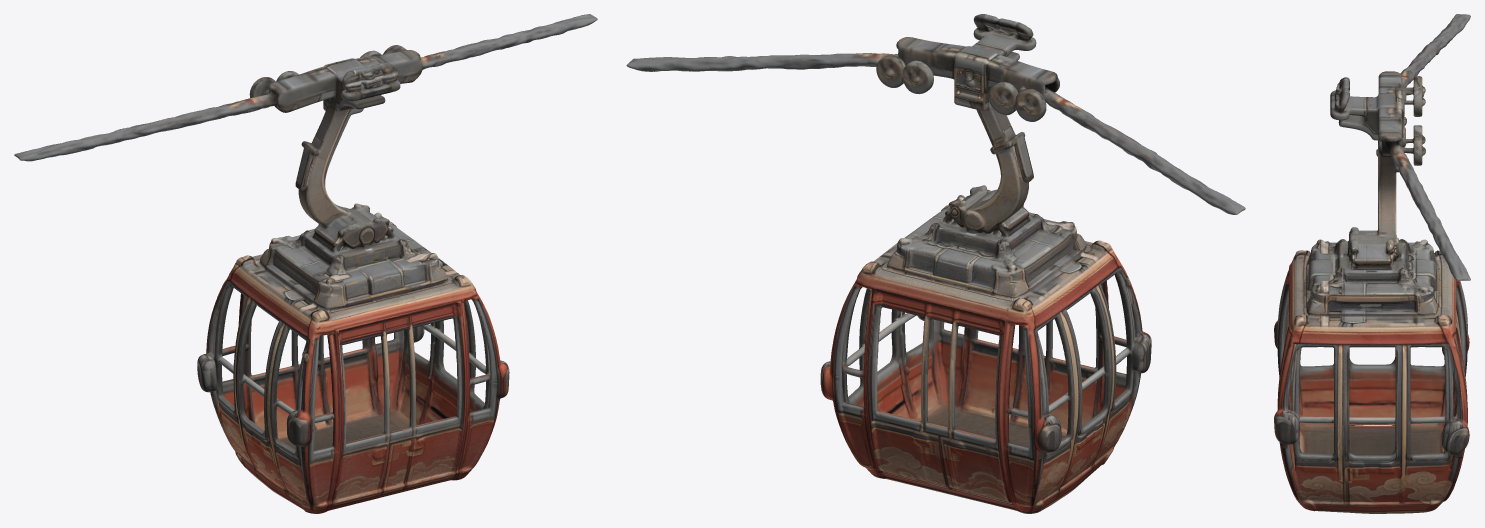
The model's file is taohuayuan-cable-car.glb.
3 views of the same model, side by side, from view 1: azimuth 30°, elevation 25°; view 2: azimuth 150°, elevation 25°; view 3: azimuth 270°, elevation 25° (orthographic). The views are drawn at different scales.
Visible parts, largest first — view 1: tripo_node_1e4098a1-4ec9-4b5f-b6f4-77ef8450d94f; view 2: tripo_node_1e4098a1-4ec9-4b5f-b6f4-77ef8450d94f; view 3: tripo_node_1e4098a1-4ec9-4b5f-b6f4-77ef8450d94f.
Part boxes in pixels (<box>): tripo_node_1e4098a1-4ec9-4b5f-b6f4-77ef8450d94f: <box>14,14,597,513</box>; tripo_node_1e4098a1-4ec9-4b5f-b6f4-77ef8450d94f: <box>626,14,1245,513</box>; tripo_node_1e4098a1-4ec9-4b5f-b6f4-77ef8450d94f: <box>1274,14,1470,513</box>.
Bounding box in the file's own units: 1 × 0.6893 × 0.3135.
Materials: 1 (1 with a texture image).
